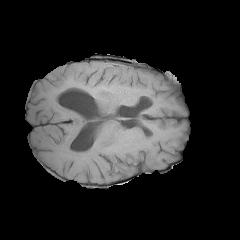glioma: (50, 63, 154, 103)
